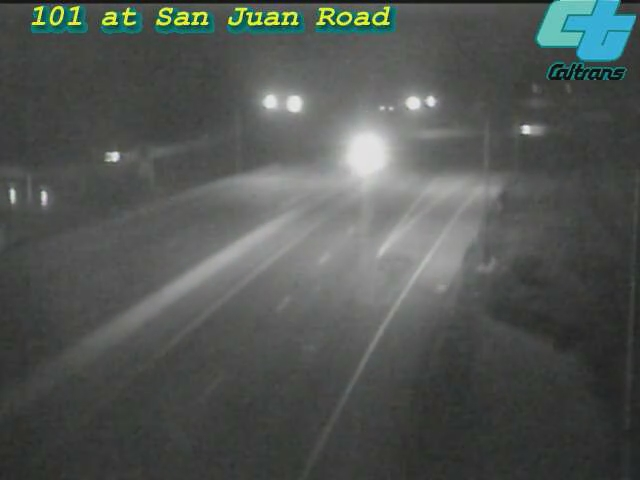vehicle: (330, 131, 380, 181), (509, 105, 559, 155)
